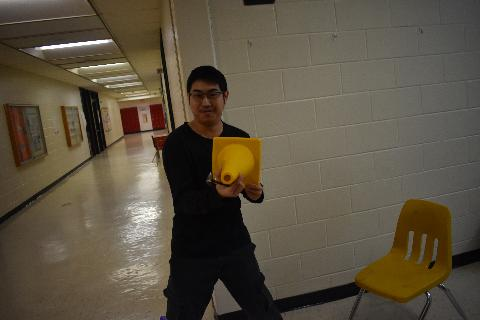cone: (213, 138, 261, 185)
